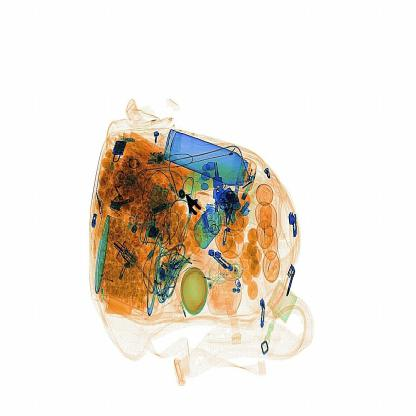gun: (169, 184, 213, 228)
